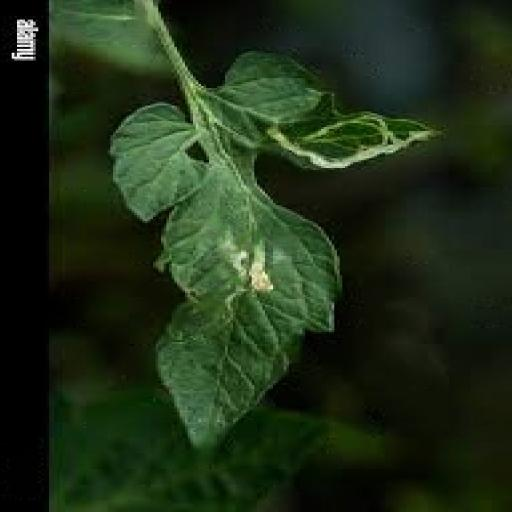disease_tomato: (102, 48, 450, 458)
